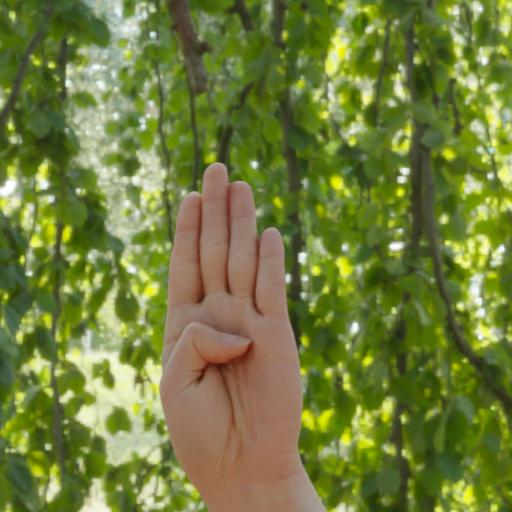B: (156, 158, 310, 477)
